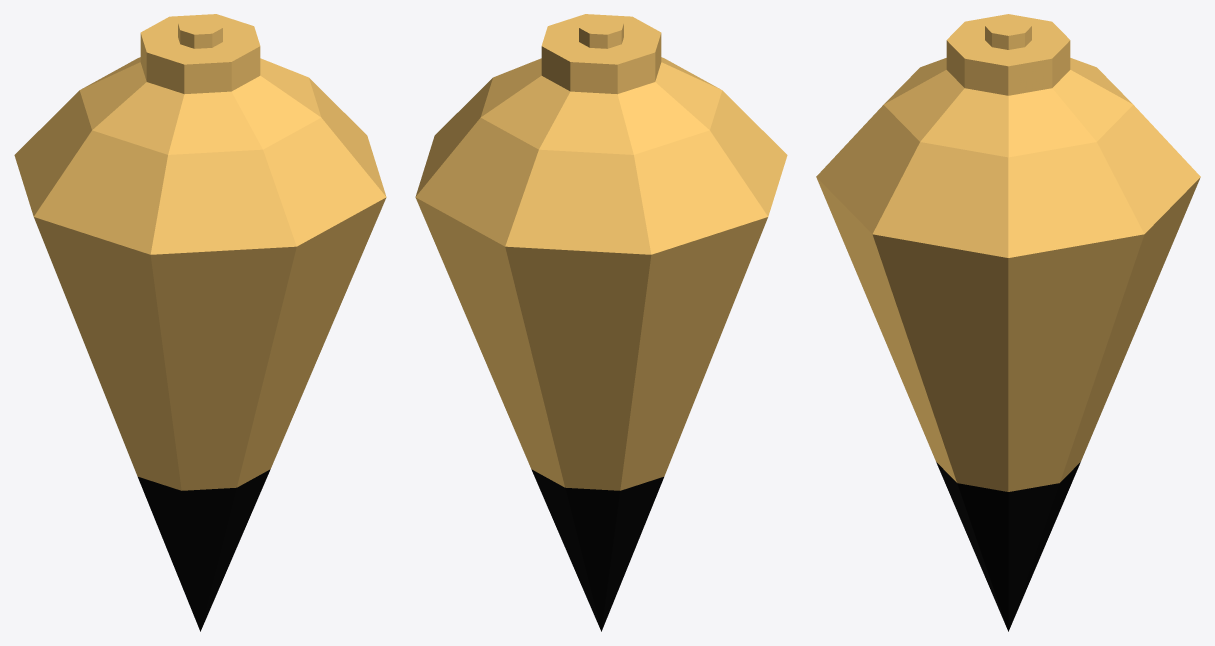
The model's file is plumbbob01.obj.
3 renders of one model, left to right at view 1: azimuth 30°, elevation 25°; view 2: azimuth 150°, elevation 25°; view 3: azimuth 270°, elevation 25°, orthographic.
Parts seen in each view (by area): view 1: Cone; view 2: Cone; view 3: Cone.
Part boxes in pixels (x1=…): Cone: x1=14, y1=14, x2=386, y2=631; Cone: x1=415, y1=14, x2=787, y2=631; Cone: x1=816, y1=14, x2=1200, y2=631.
Size of the model in its own units: 0.0387 by 0.0673 by 0.0387.
Materials: 1 (1 with a texture image).
